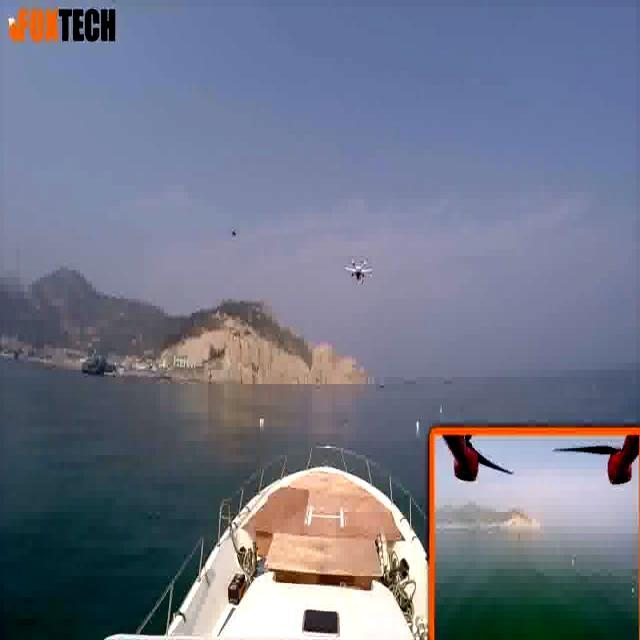drone: (336, 252, 379, 286), (225, 222, 250, 244)
